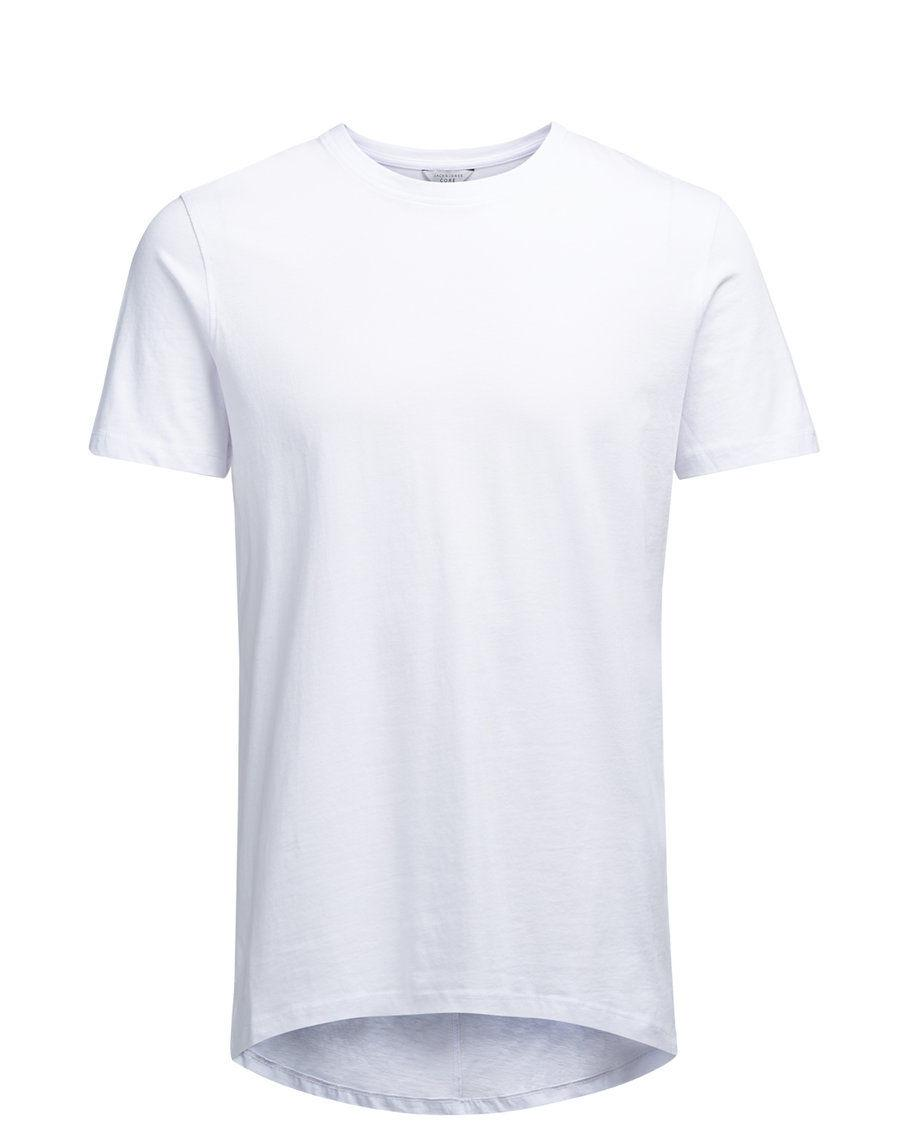teeshirt: (8, 8, 892, 1117)
